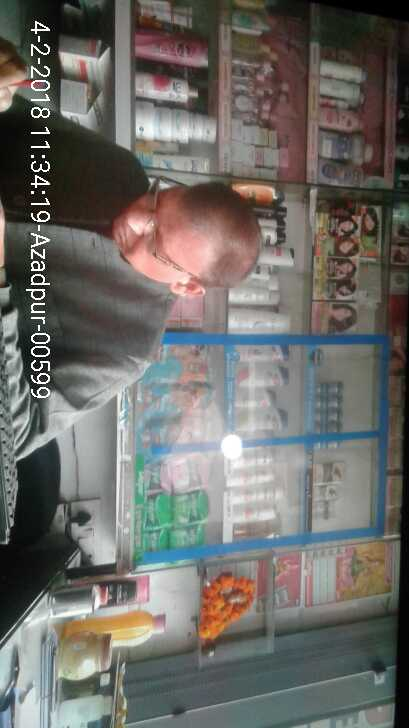vicks: (316, 377, 349, 434)
